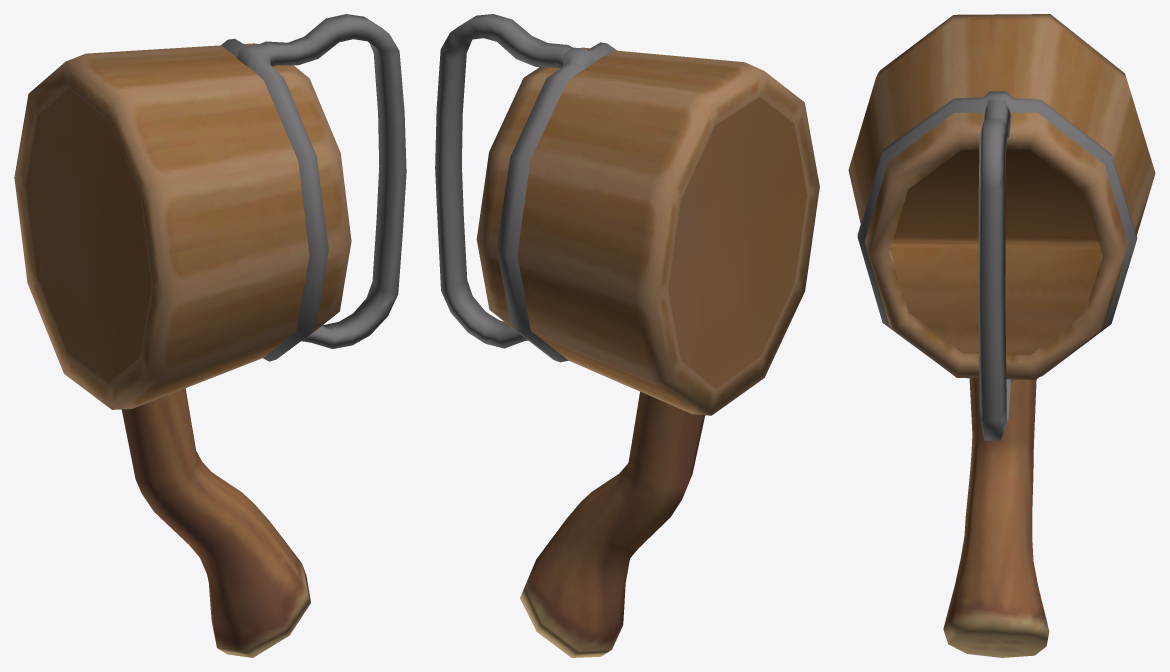
The model's file is ToolWateringWood.glb.
3 renders of one model, left to right at view 1: azimuth 30°, elevation 25°; view 2: azimuth 150°, elevation 25°; view 3: azimuth 270°, elevation 25°, orthographic. The views are drawn at different scales.
Parts seen in each view (by area): view 1: pCylinder4__mTool; view 2: pCylinder4__mTool; view 3: pCylinder4__mTool.
Part boxes in pixels (left/top/right/bottom): pCylinder4__mTool: left=14, top=14, right=406, bottom=657; pCylinder4__mTool: left=435, top=14, right=819, bottom=657; pCylinder4__mTool: left=848, top=14, right=1155, bottom=657.
Bounding box in the file's own units: 2.93 × 5.5 × 2.62.
1 material, 1 textured.
